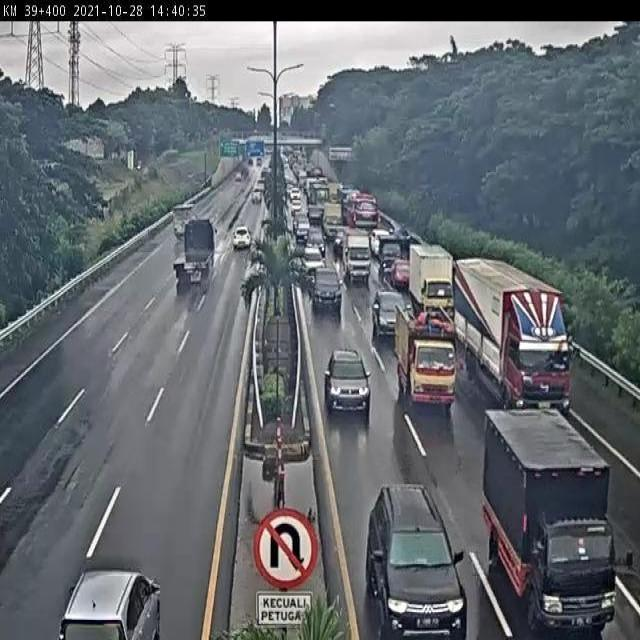Car: (360, 477, 461, 640), (57, 568, 162, 638), (322, 349, 378, 416), (372, 287, 408, 338), (309, 266, 340, 311), (305, 230, 326, 260), (232, 226, 251, 250), (248, 187, 266, 208), (294, 219, 310, 242)
Truck: (475, 408, 612, 636), (448, 251, 576, 412), (385, 304, 460, 409), (173, 215, 217, 298), (408, 242, 454, 319), (344, 231, 372, 284), (322, 202, 344, 241)
